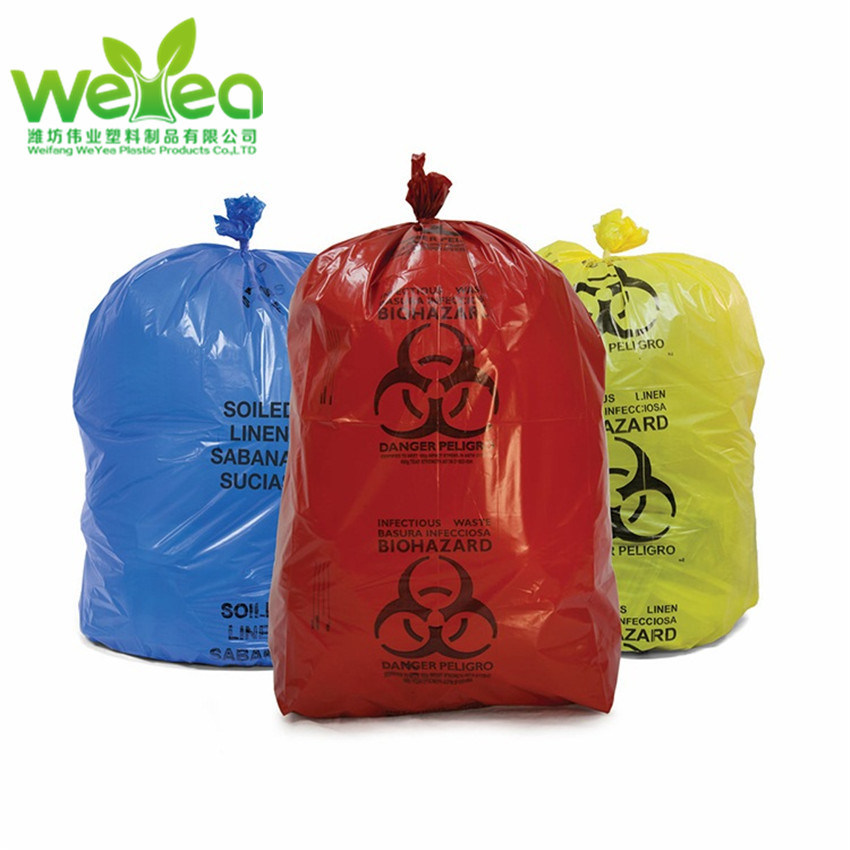plastic_bagwdw: (256, 181, 678, 760), (38, 146, 413, 733), (492, 102, 781, 800)
